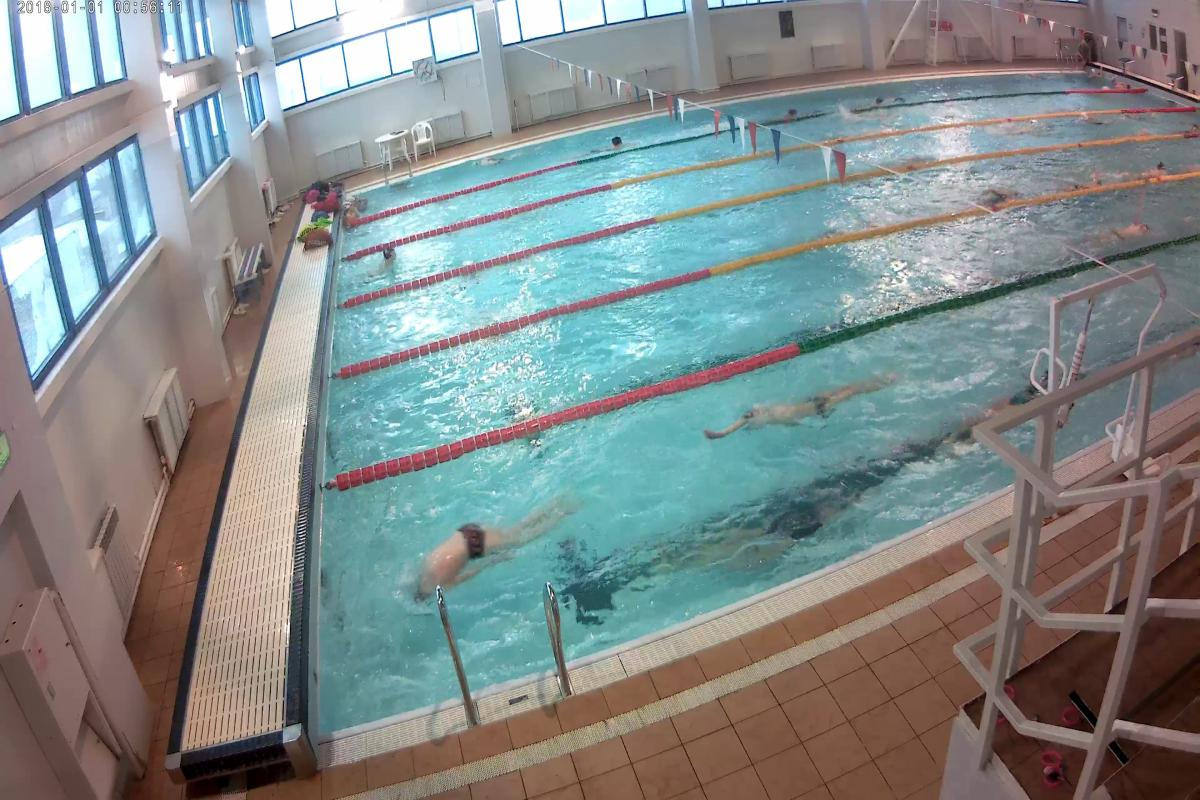swimmer: (393, 496, 580, 603), (695, 368, 903, 451), (701, 495, 835, 565), (1085, 216, 1163, 241), (375, 242, 412, 284), (1132, 155, 1173, 178)
